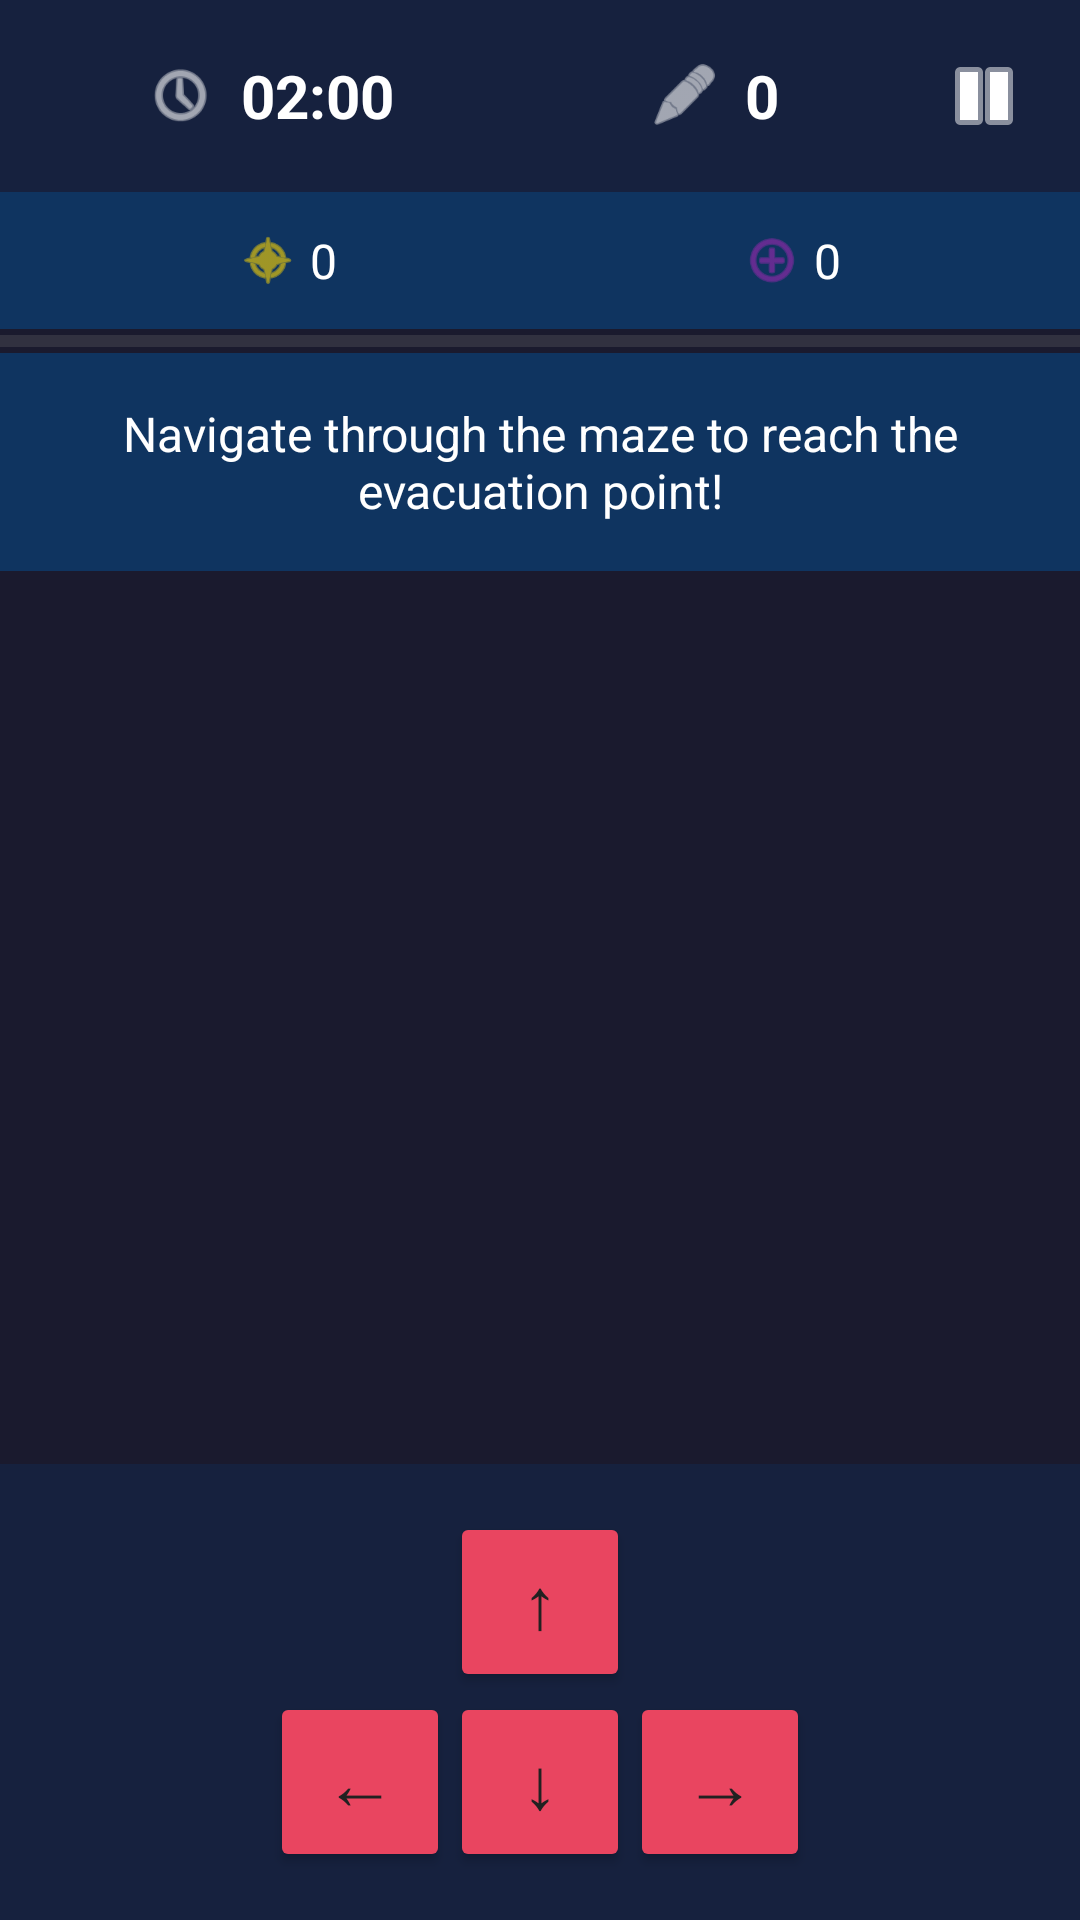

Point at icon controls on the screen. Image size 1080 × 1920, points as point (x, y).
add: point (772, 260)
edit: point (684, 94)
pause: point (984, 96)
recent history: point (181, 95)
